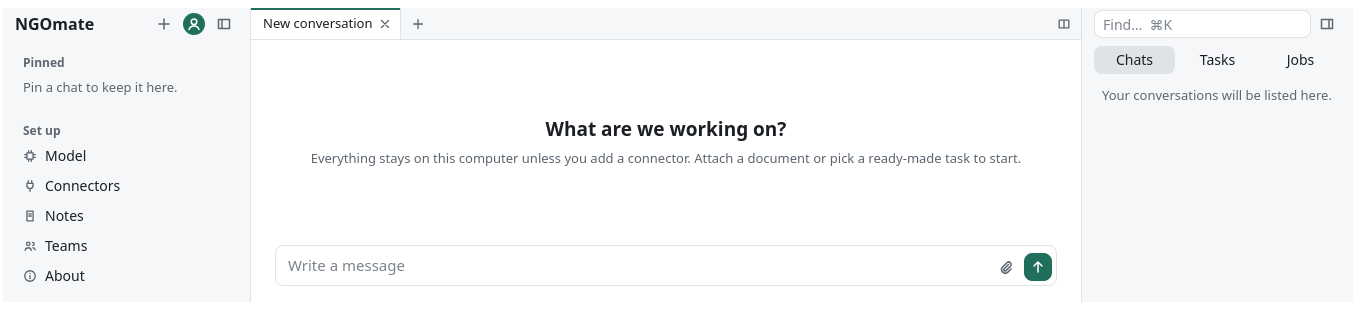
team › reads the team notes that fit the question into the conversation
Expected: the button named "You and your team" is shown, [180,10,208,38]
Type "What does a borehole repair cost?" into the text box labelled "message" at (638, 265), box [288,250,988,280]
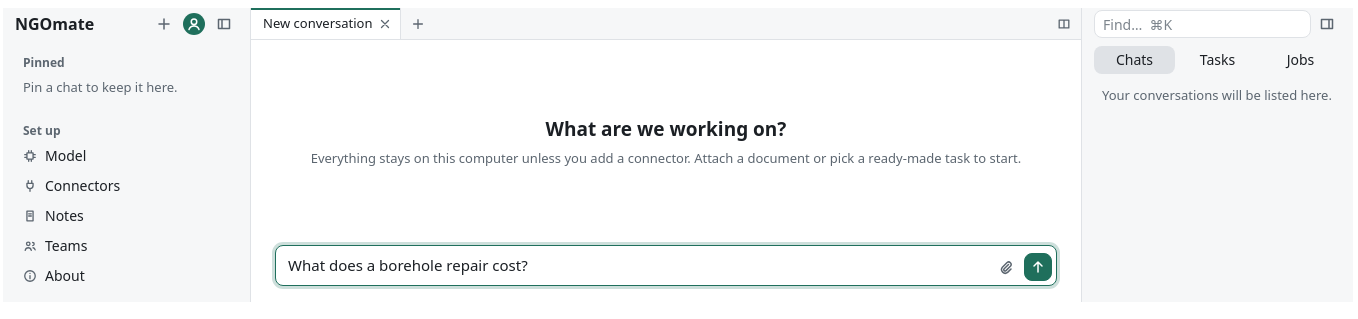
Click the button named "Send" at (1038, 266), box [1024,252,1052,280]
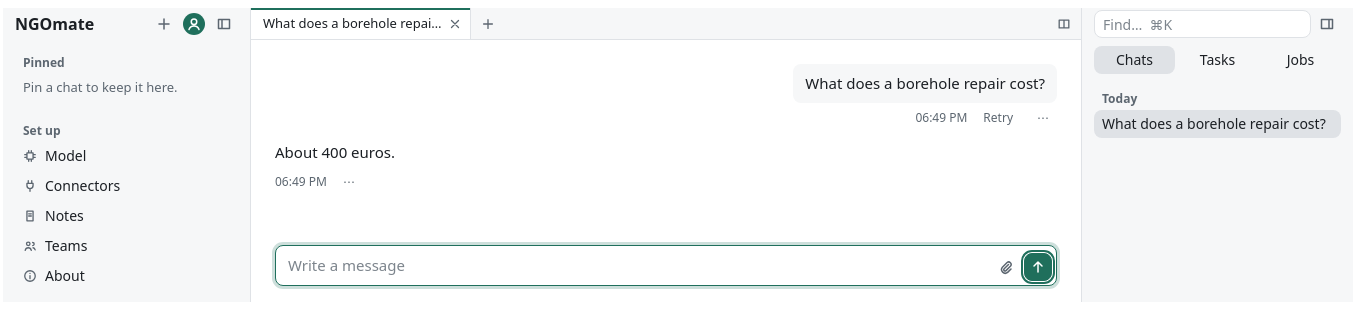
Now the text "About 400 euros." is shown, box [275,142,395,162]
